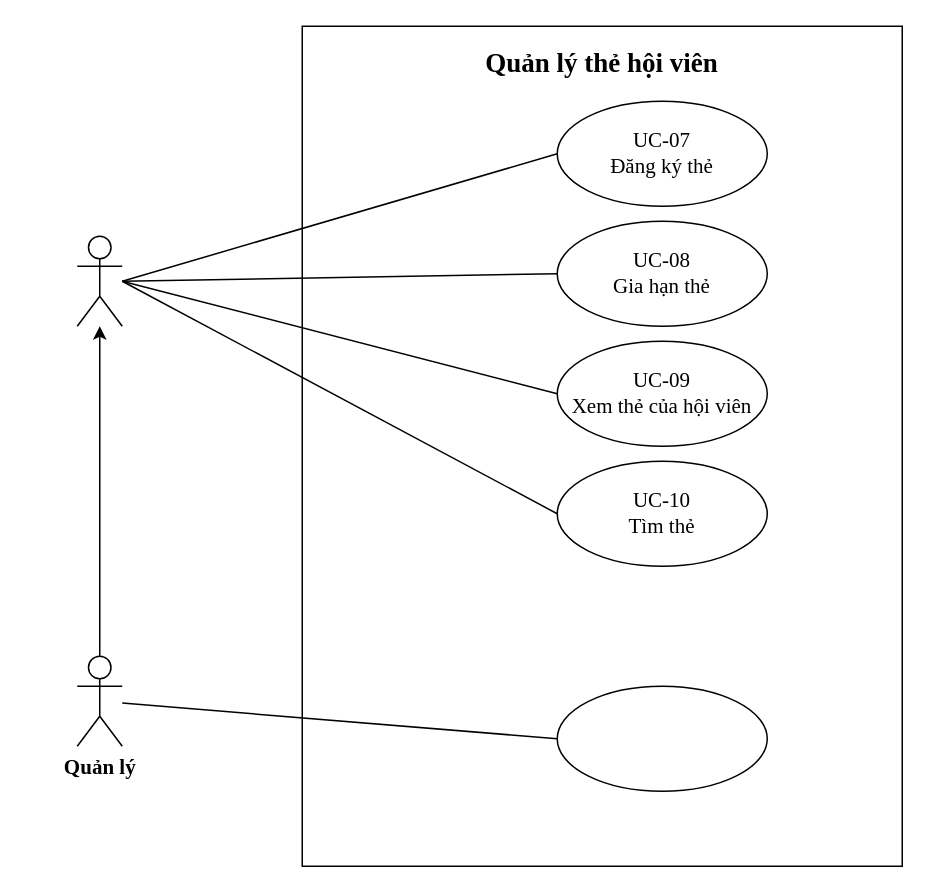
This 929x893 diagram has some shape labels left out. Here are the shapes that lost their labels. From the top down, the box of each, then its label:
(76, 235, 122, 326): Nhân viên lễ tân
(556, 685, 767, 791): UC-11 Bảo lưu thẻ
